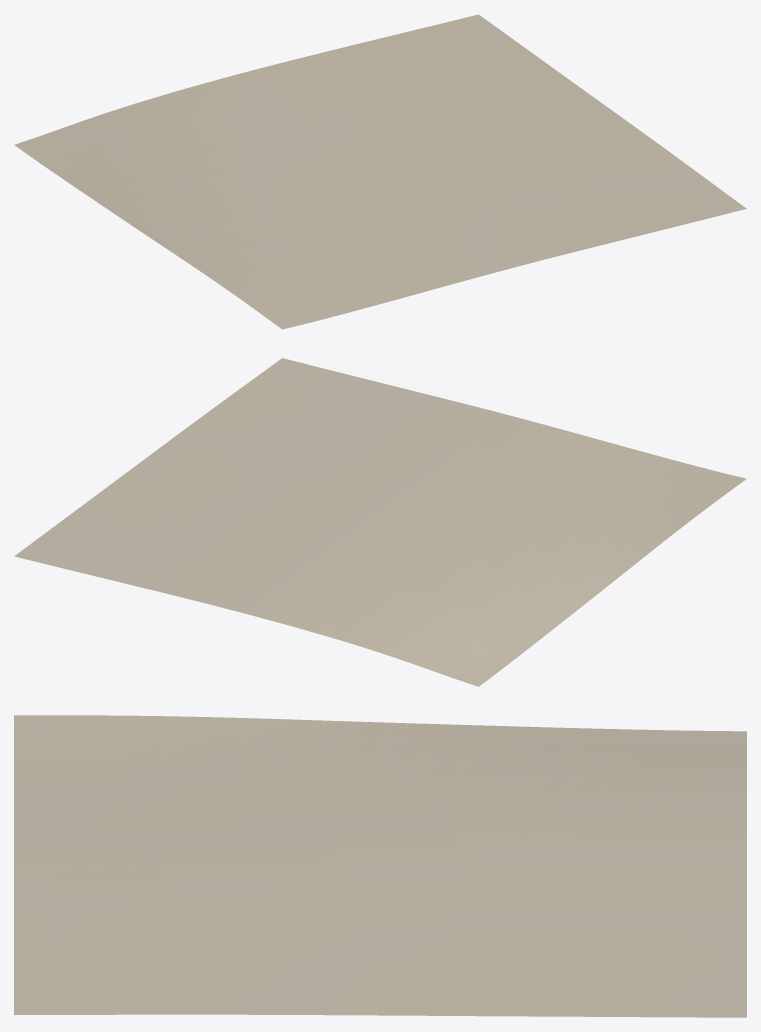
File: bolak_-38_-12.glb
3 views of the same model, one above another, from view 1: azimuth 30°, elevation 25°; view 2: azimuth 150°, elevation 25°; view 3: azimuth 270°, elevation 25° (orthographic). The views are drawn at different scales.
Parts seen in each view (by area): view 1: Yer_Tuproq-col; view 2: Yer_Tuproq-col; view 3: Yer_Tuproq-col.
Boxes of the visible parts, x1,y1,x2,y2 form: Yer_Tuproq-col: [14, 14, 746, 329]; Yer_Tuproq-col: [14, 358, 746, 686]; Yer_Tuproq-col: [14, 715, 746, 1017].
Size of the model in its own units: 400 by 15.87 by 400.
